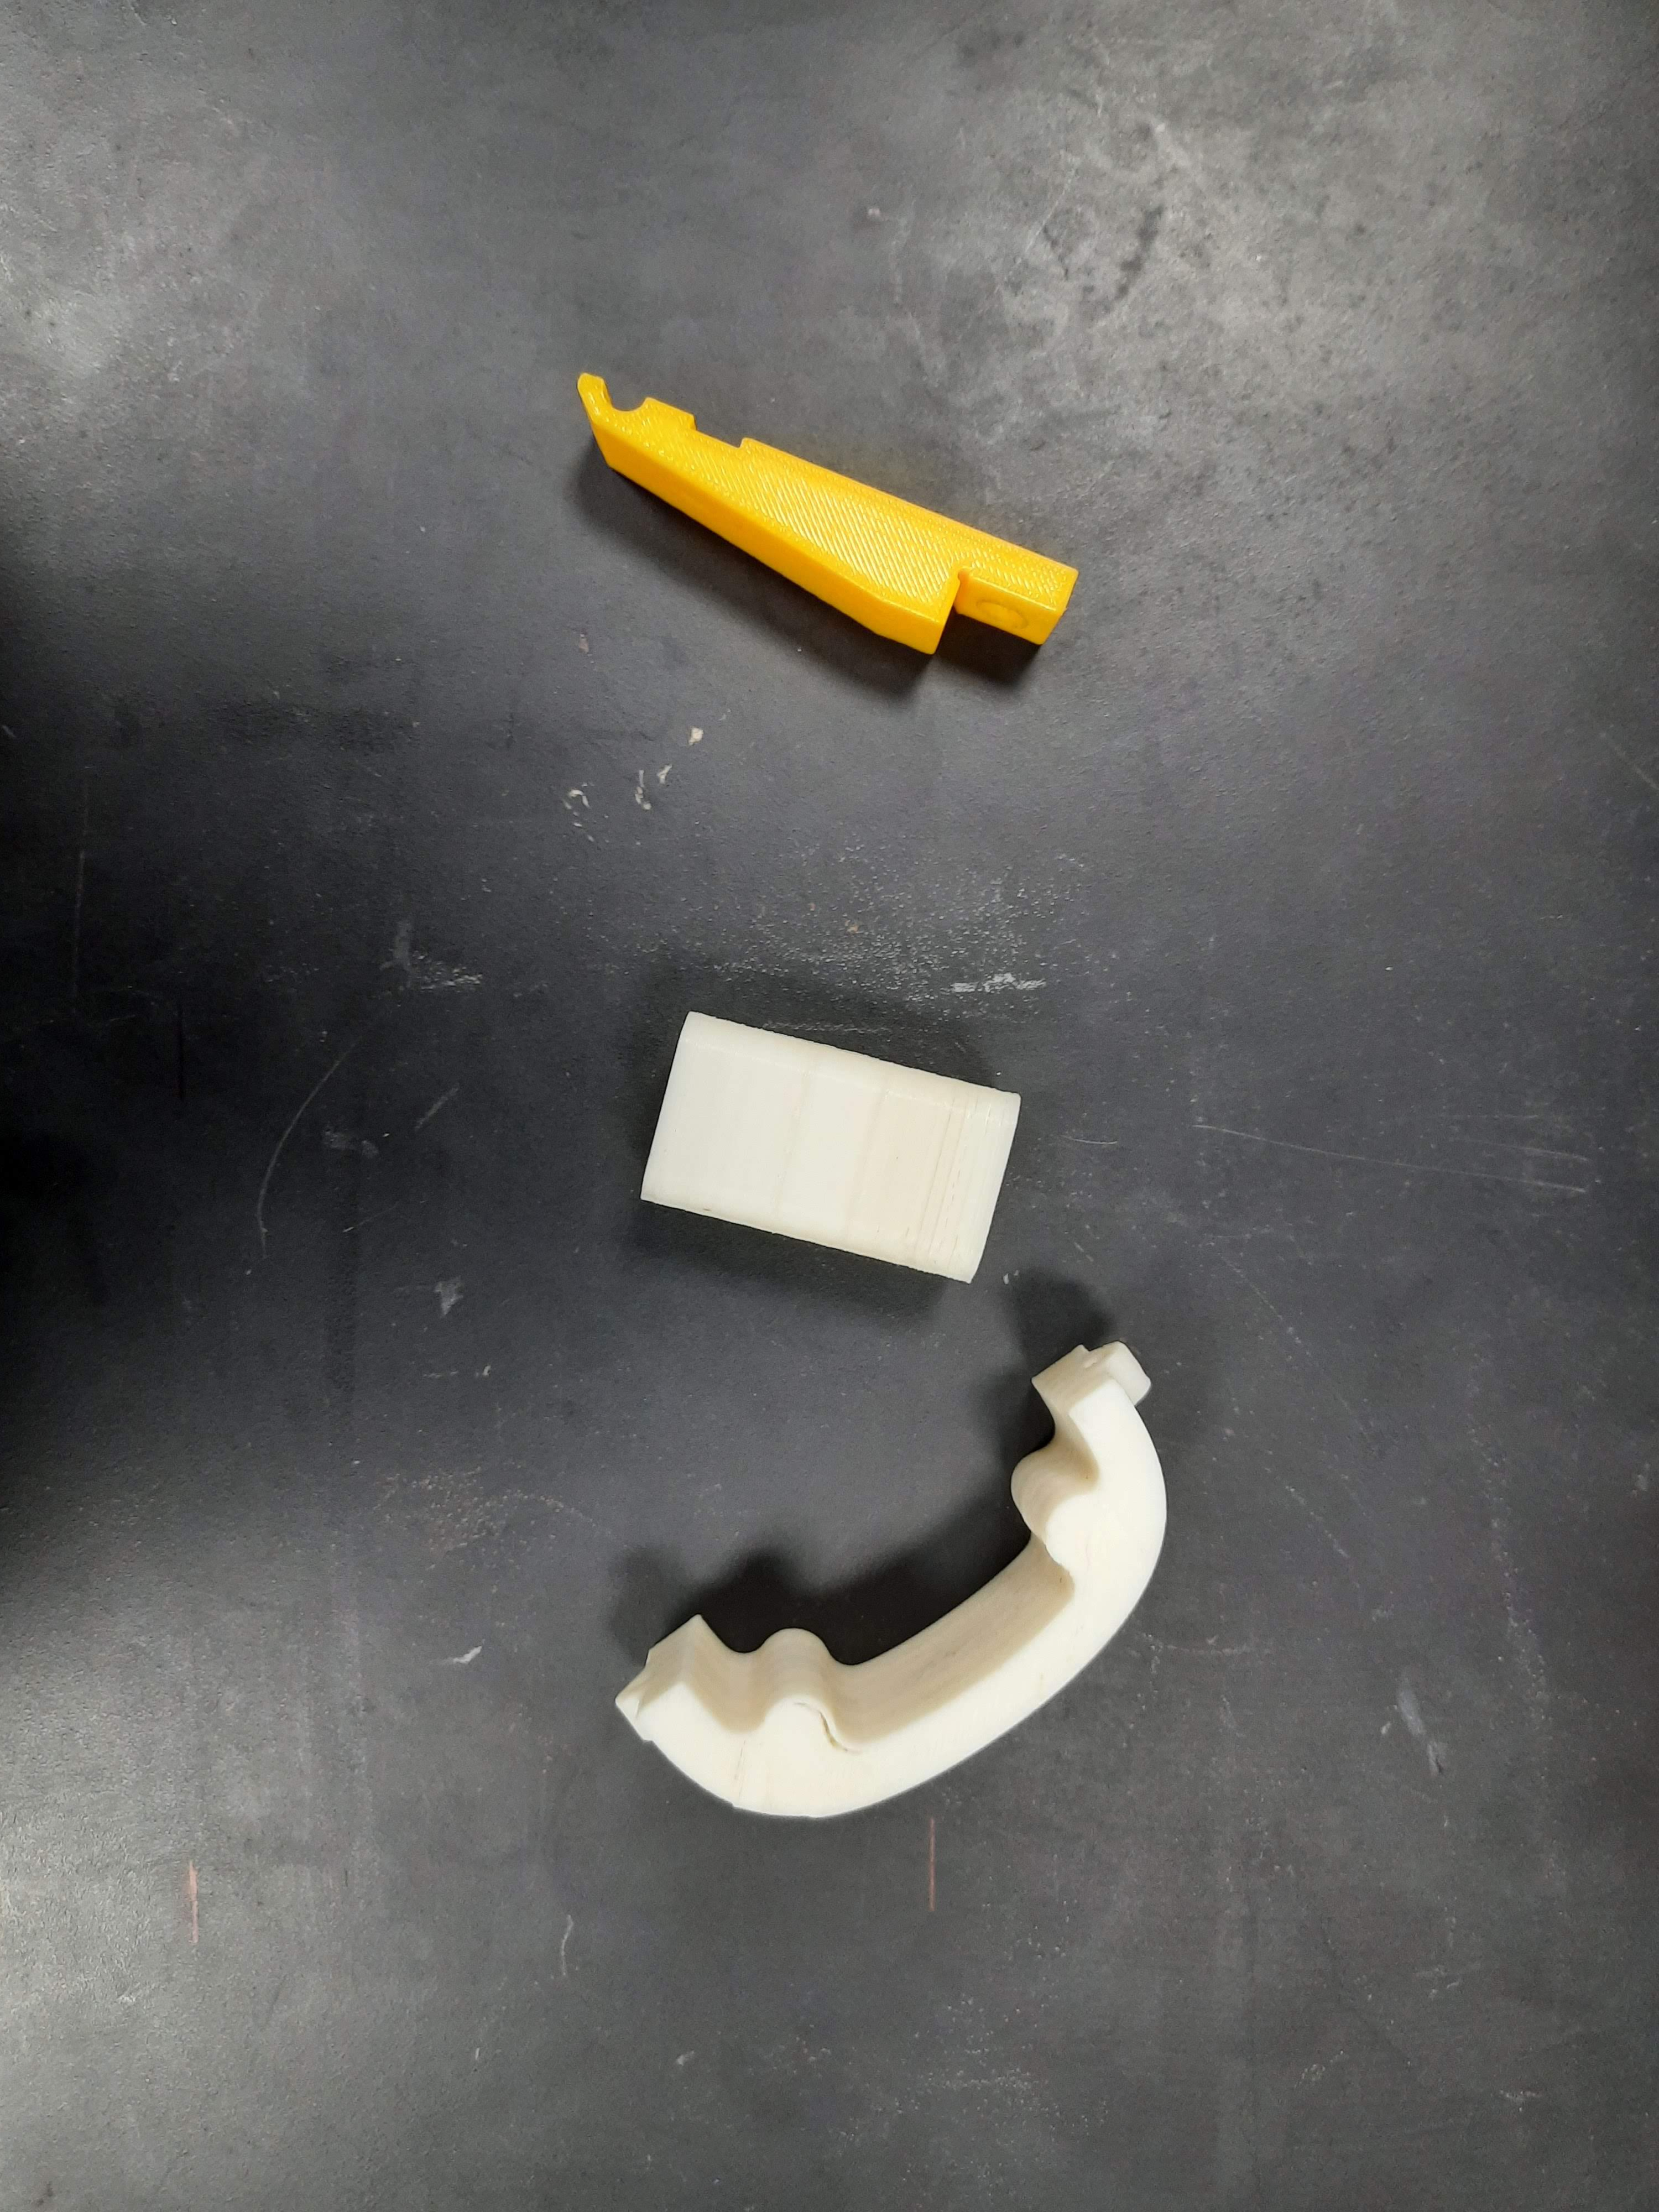ARC: (596, 1312, 1274, 1911)
CUBE: (641, 1010, 1025, 1284)
YELLOW: (523, 371, 1086, 697)
